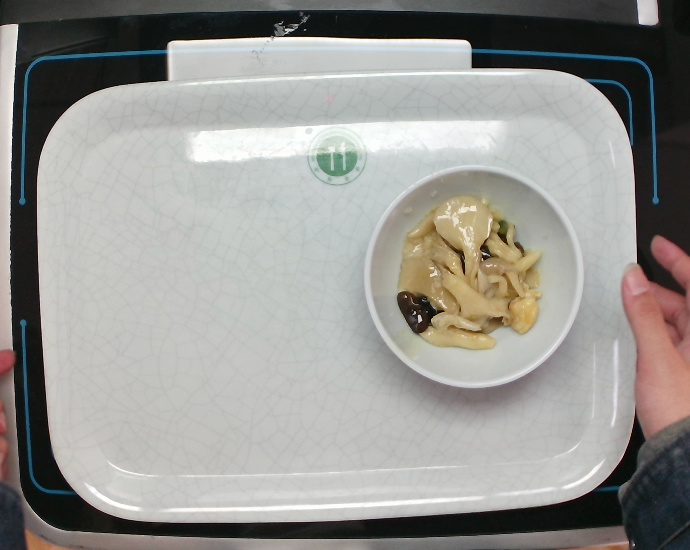JYsf-Fan_Wan: (364, 163, 588, 394)
